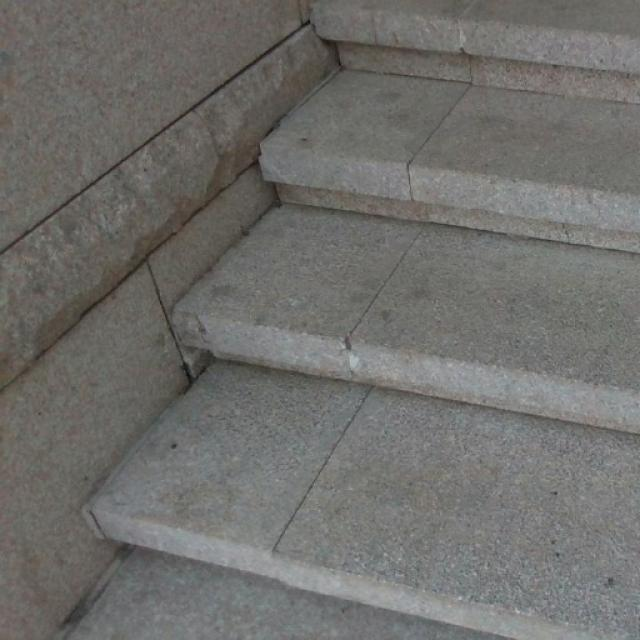Stairs: (59, 0, 639, 639)
